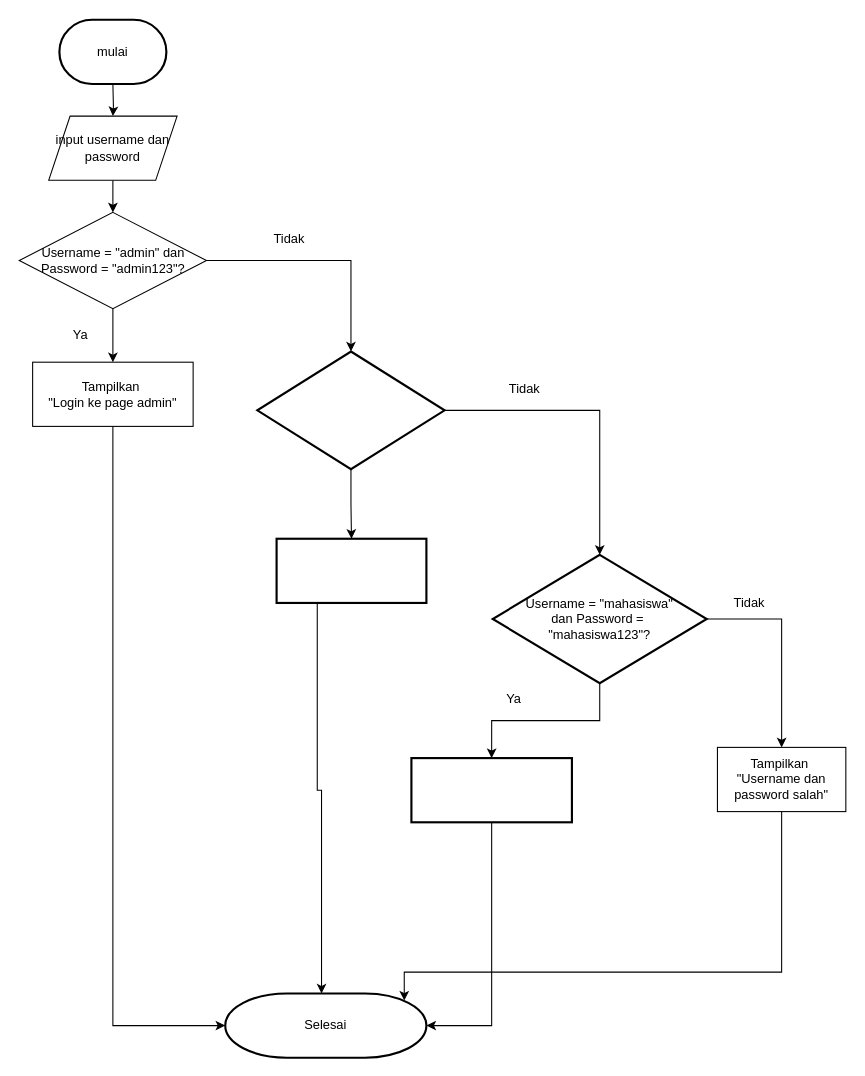
The diagram is 865 pixels wide and 1076 high, and some of its shapes have lost their labels. The box of each missing label's shape, as (x1, y1, x2, y2) in pixels:
Tampilkan "Login ke page dosen": (275, 537, 427, 603)
Tampilkan "Login ke page mahasiswa": (410, 756, 572, 823)
Usernama = "dosen dan password= "dosen111"?: (256, 350, 445, 470)
